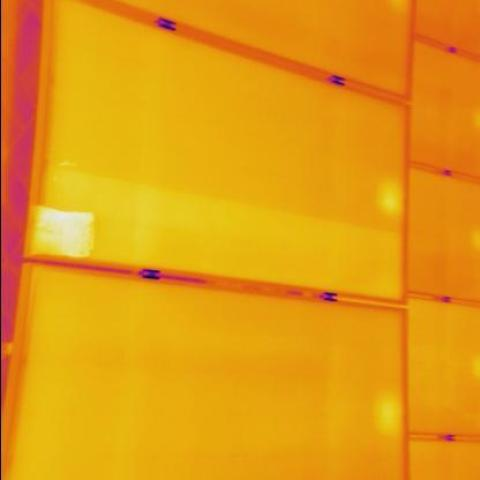fault: (32, 207, 88, 255), (374, 391, 404, 436), (379, 182, 402, 214)
